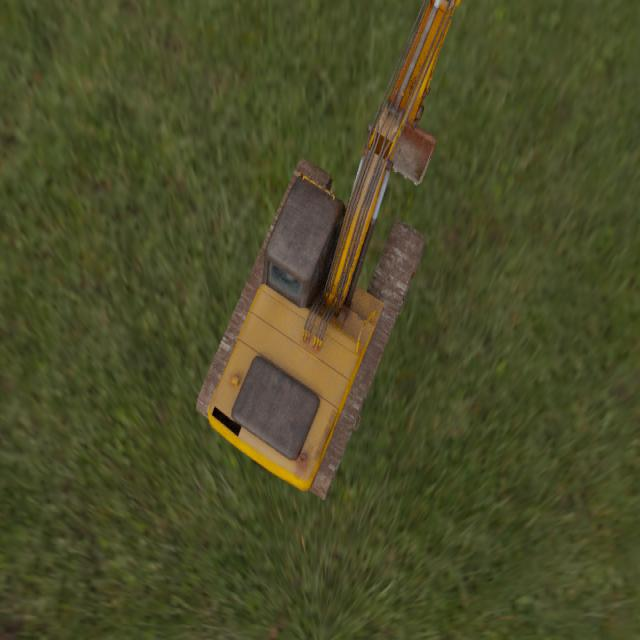excavator: (195, 0, 460, 501)
